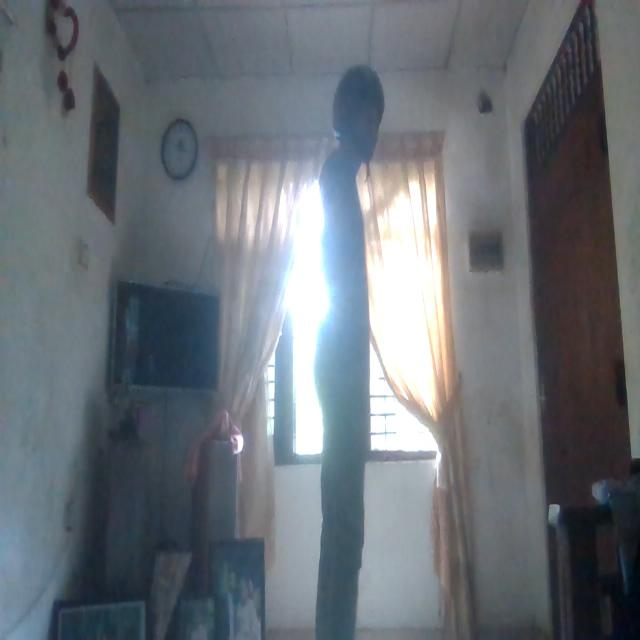Helmet_Wearer: (330, 66, 384, 164)
Person: (314, 58, 411, 640)
